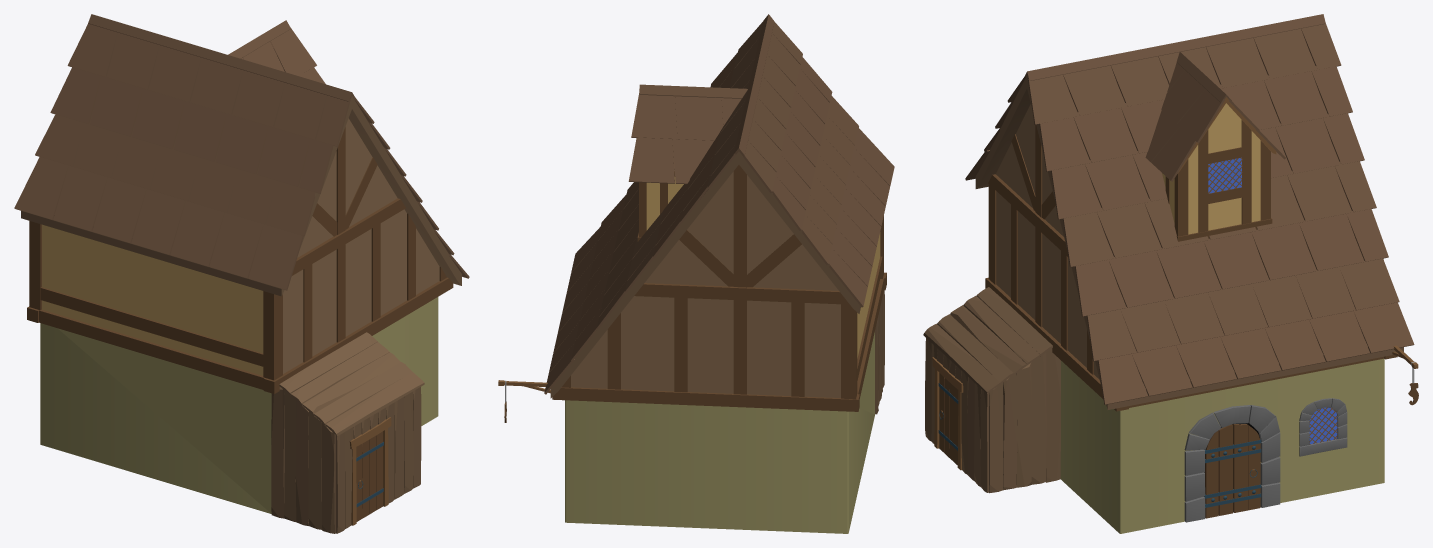
File: House9.fbx
3 views of the same model, side by side, from view 1: azimuth 30°, elevation 25°; view 2: azimuth 150°, elevation 25°; view 3: azimuth 270°, elevation 25° (orthographic). The views are drawn at different scales.
Visible parts, largest first — view 1: polySurface648, polySurface565, polySurface823, polySurface830, polySurface831, polySurface829, polySurface631, polySurface628, polySurface653, polySurface790, polySurface650, polySurface663 (+17 smaller); view 2: polySurface565, polySurface648, polySurface823, polySurface830, polySurface831, polySurface829, polySurface652, polySurface835, polySurface833, polySurface669, polySurface668, polySurface819 (+16 smaller); view 3: polySurface565, polySurface648, polySurface821, polySurface820, polySurface819, polySurface828, polySurface822, polySurface826, polySurface627, polySurface824, polySurface791, polySurface827 (+30 smaller).
Part boxes in pixels (x1,y1,x2,y2): polySurface648: [21, 14, 461, 375]; polySurface565: [40, 297, 438, 513]; polySurface823: [14, 157, 303, 290]; polySurface830: [50, 67, 333, 193]; polySurface831: [67, 23, 350, 146]; polySurface829: [35, 114, 315, 236]; polySurface631: [295, 400, 335, 533]; polySurface628: [386, 387, 421, 503]; polySurface653: [39, 309, 264, 389]; polySurface790: [40, 287, 263, 366]; polySurface650: [263, 277, 453, 393]; polySurface663: [336, 127, 345, 342]; polySurface565: [565, 332, 874, 533]; polySurface648: [550, 14, 880, 398]; polySurface823: [828, 128, 894, 307]; polySurface830: [772, 57, 832, 230]; polySurface831: [743, 22, 802, 193]; polySurface829: [801, 96, 858, 265]; polySurface652: [552, 387, 859, 411]; polySurface835: [631, 93, 741, 140]; polySurface833: [628, 135, 713, 184]; polySurface669: [733, 165, 746, 394]; polySurface668: [634, 283, 849, 304]; polySurface819: [544, 227, 600, 394]; polySurface565: [1060, 358, 1384, 533]; polySurface648: [975, 14, 1403, 409]; polySurface821: [1075, 209, 1388, 316]; polySurface820: [1087, 258, 1399, 361]; polySurface819: [1098, 302, 1414, 404]; polySurface828: [1027, 24, 1341, 124]; polySurface822: [1063, 161, 1376, 267]; polySurface826: [1039, 99, 1164, 171]; polySurface627: [1016, 348, 1060, 487]; polySurface824: [1051, 151, 1167, 219]; polySurface791: [1162, 52, 1276, 234]; polySurface827: [1220, 66, 1352, 129].
Size of the model in its own units: 142 by 142 by 161.
